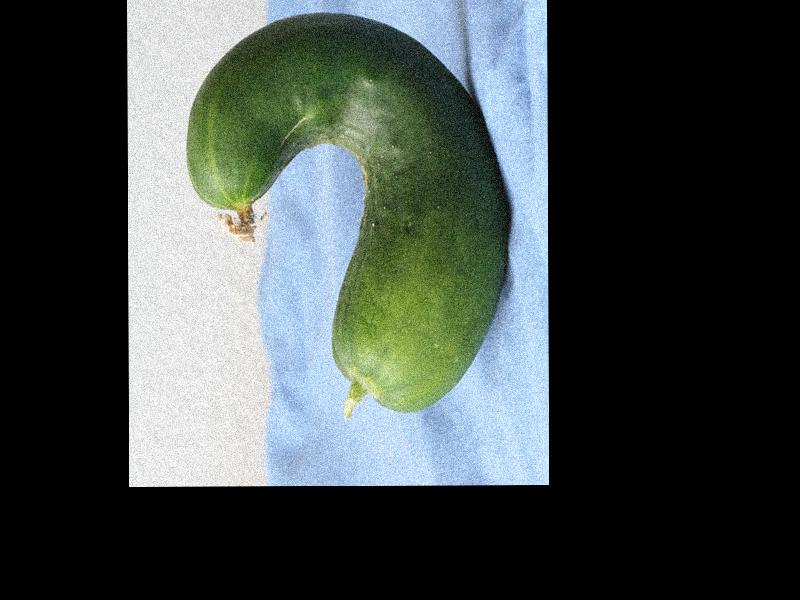Cucumber: (184, 10, 509, 414)
